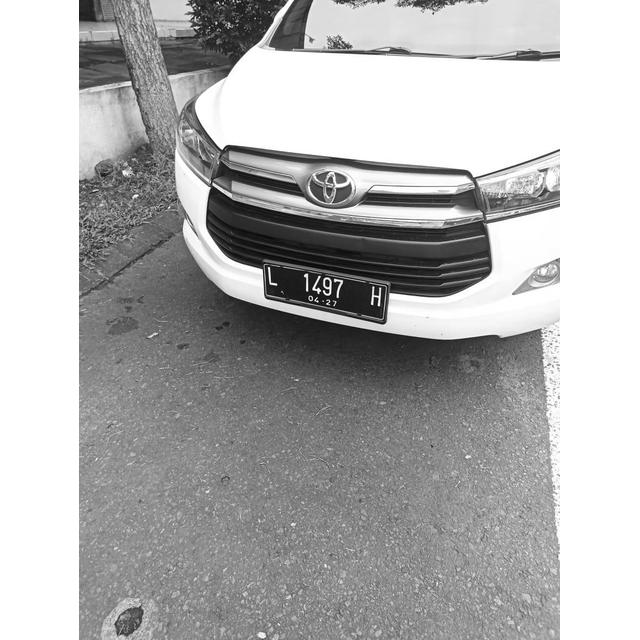license: (265, 265, 391, 308)
